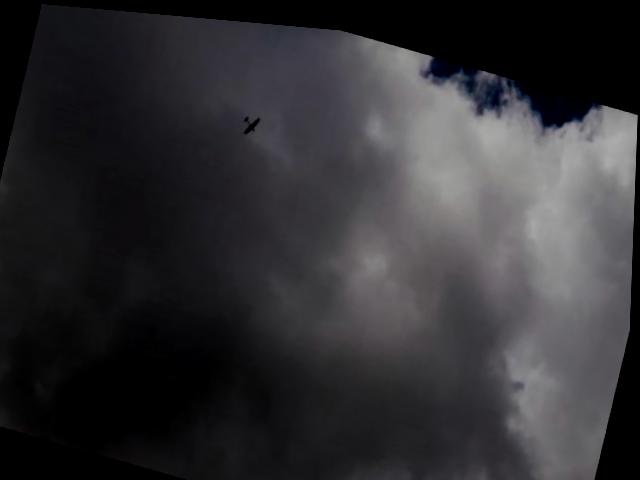iha: (238, 105, 267, 136)
